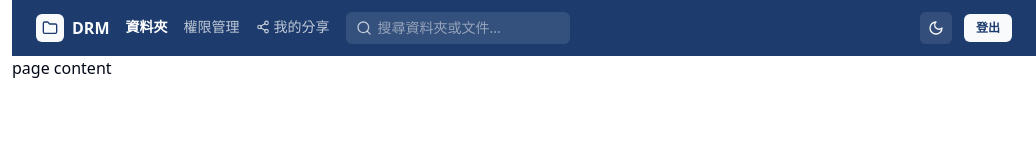
Navbar › navigates to /search?q=... when a search term is submitted via Enter
Type "finance report" into the field with test id "navbar-search-input". click: (468, 28)
box: [378,18,560,38]
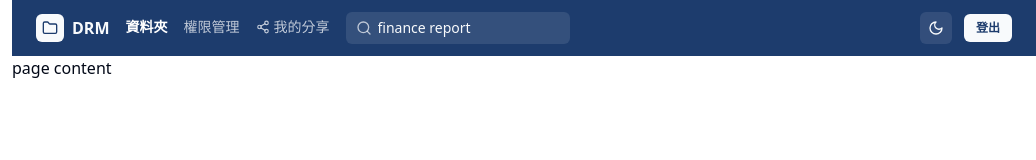
Press Enter in the field with test id "navbar-search-input", box [378,18,560,38]
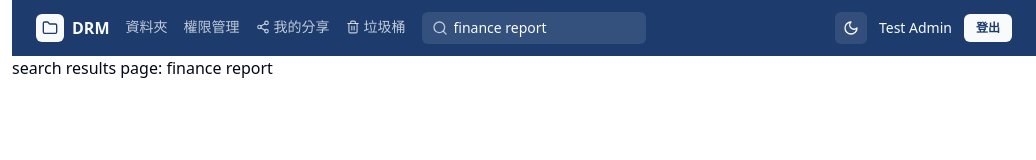
Now the text "search results page: finance report" is shown, box [12,57,273,79]
